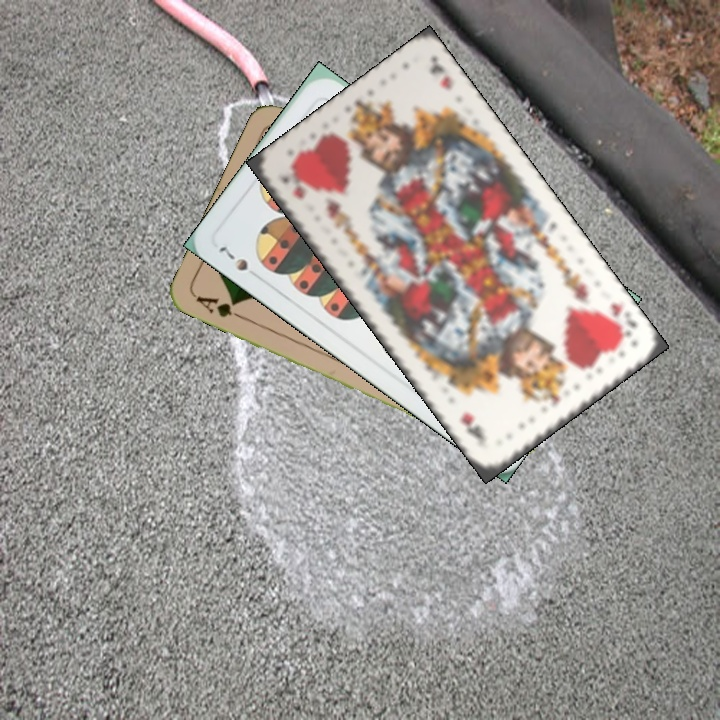GA: (192, 291, 248, 323)
HK: (599, 298, 641, 342), (279, 172, 309, 203)
S7: (214, 241, 251, 274)
